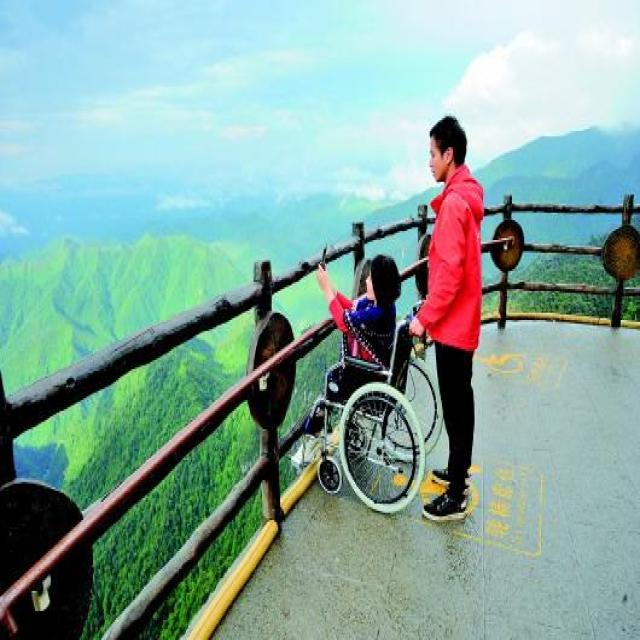wheelchairs: (297, 300, 448, 512)
